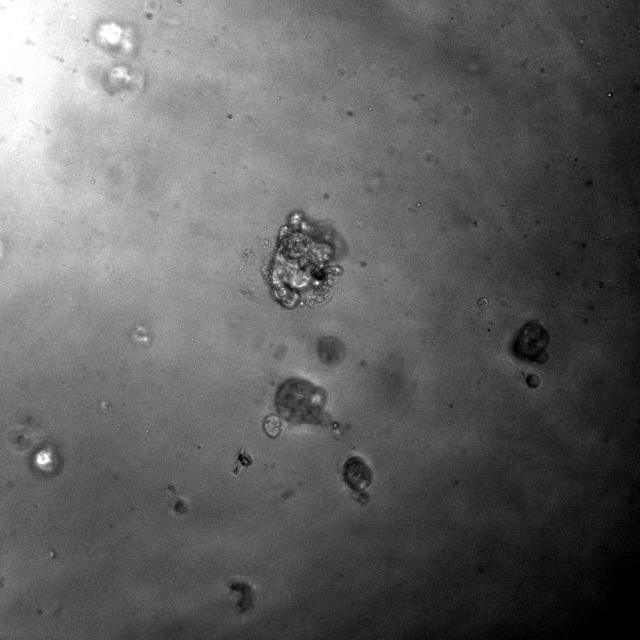organoid: (262, 211, 342, 309), (274, 377, 339, 433), (92, 16, 139, 56), (511, 320, 549, 364), (341, 455, 373, 503), (101, 61, 145, 95), (29, 442, 64, 477), (316, 336, 346, 366), (229, 580, 254, 613), (233, 447, 252, 475), (262, 413, 281, 438), (525, 373, 540, 388), (173, 498, 187, 514)
